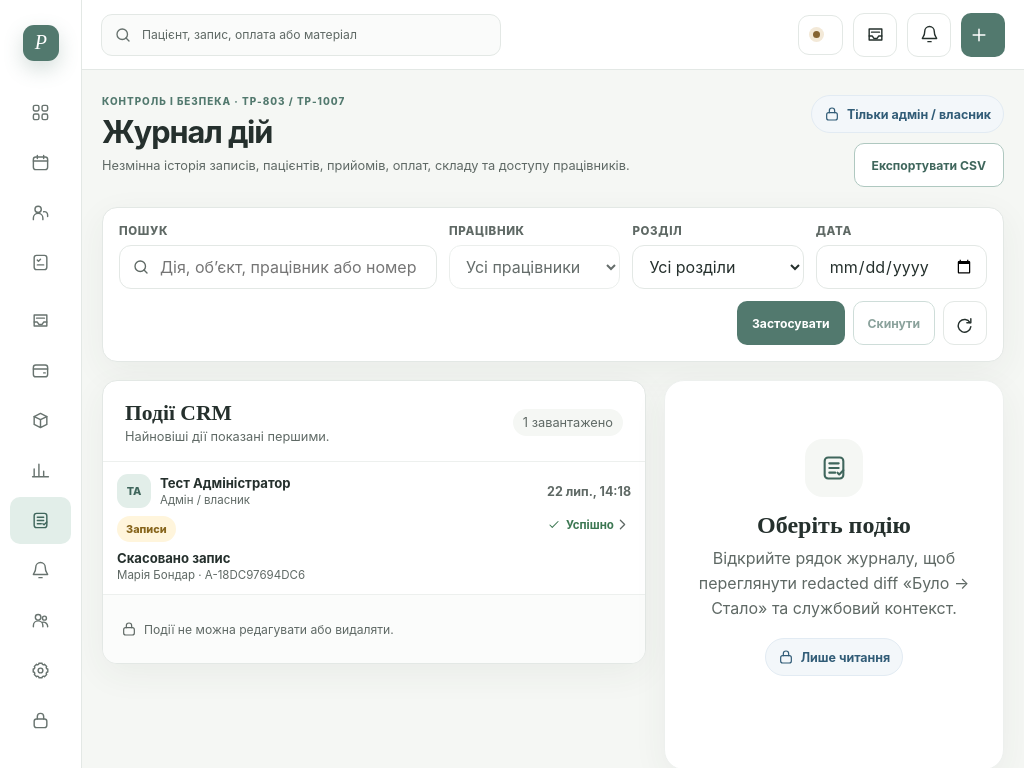
Scenario: admin audit journal › keeps the journal visible after export error and retries the same query
The width and height of the screenshot is (1024, 768).
Expected: the button "Скасовано запис" is shown, x1=103 y1=462 x2=645 y2=595
Step 1. Click the button "Експортувати CSV" → (929, 165), box x1=854 y1=143 x2=1004 y2=187
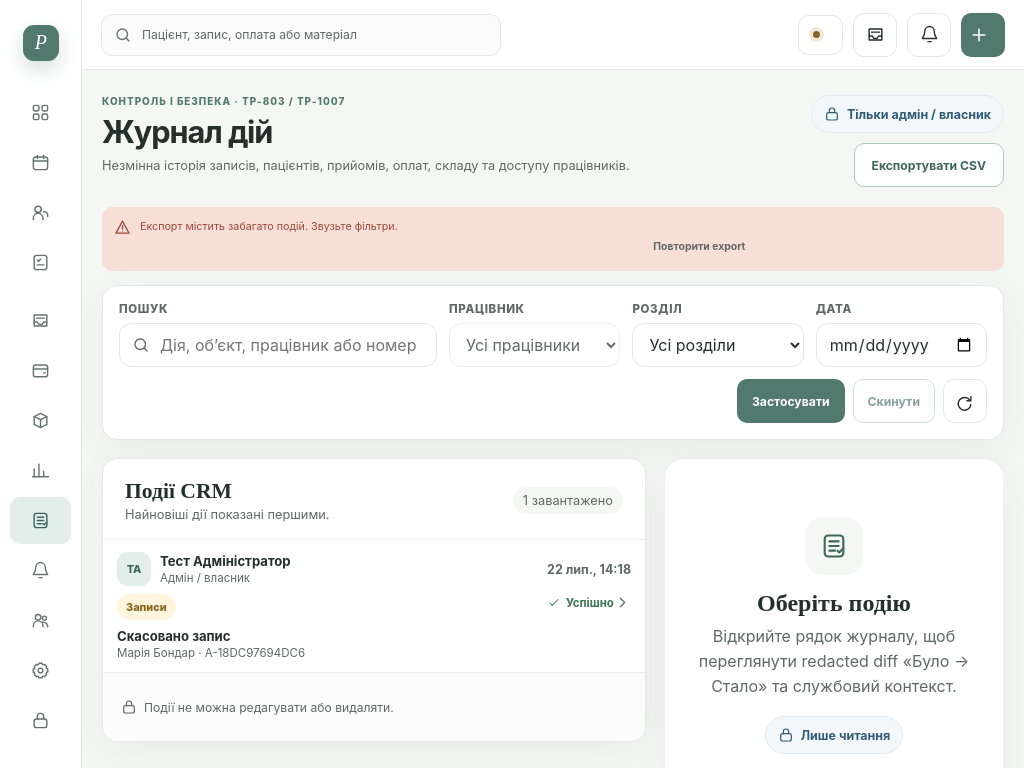
Expected: the button "Скасовано запис" is shown, x1=103 y1=540 x2=645 y2=673
Now the message shows "Експорт містить забагато подій.", box x1=140 y1=220 x2=398 y2=233
Step 2. Click the button "Повторити export" → (699, 247), box x1=648 y1=234 x2=750 y2=259
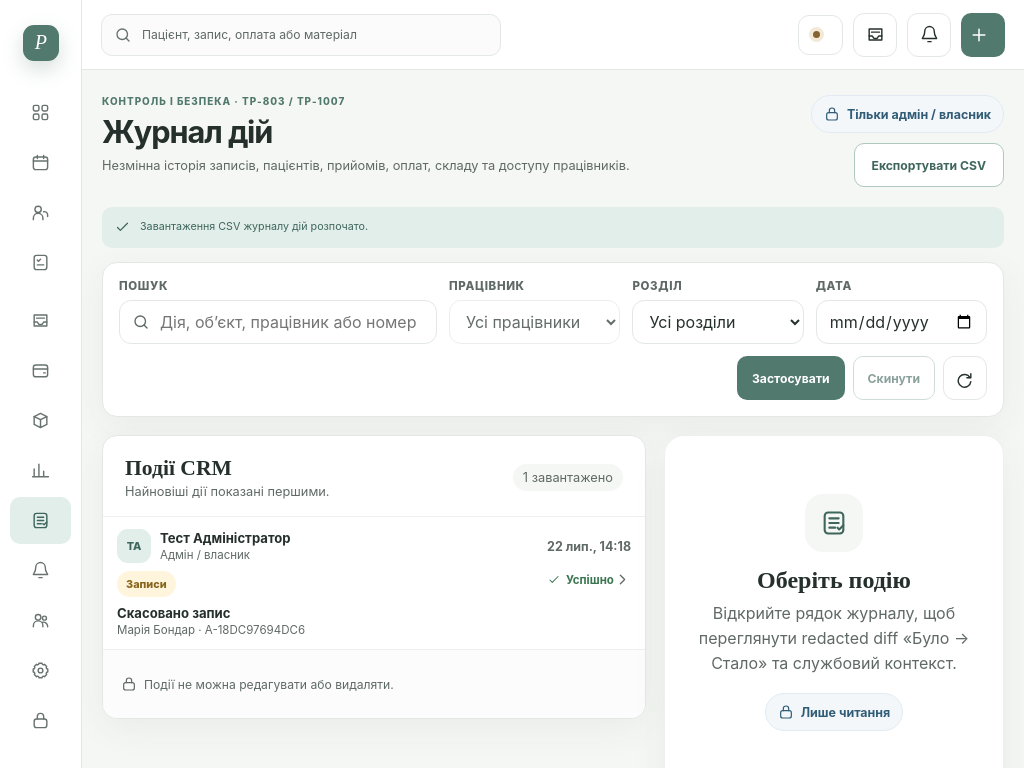
Now the text "Завантаження CSV журналу дій розпочато." is shown, box x1=140 y1=219 x2=368 y2=234
